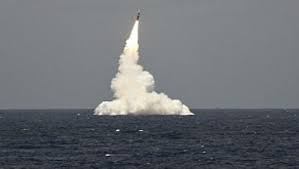ten_lua: (132, 6, 143, 25)
